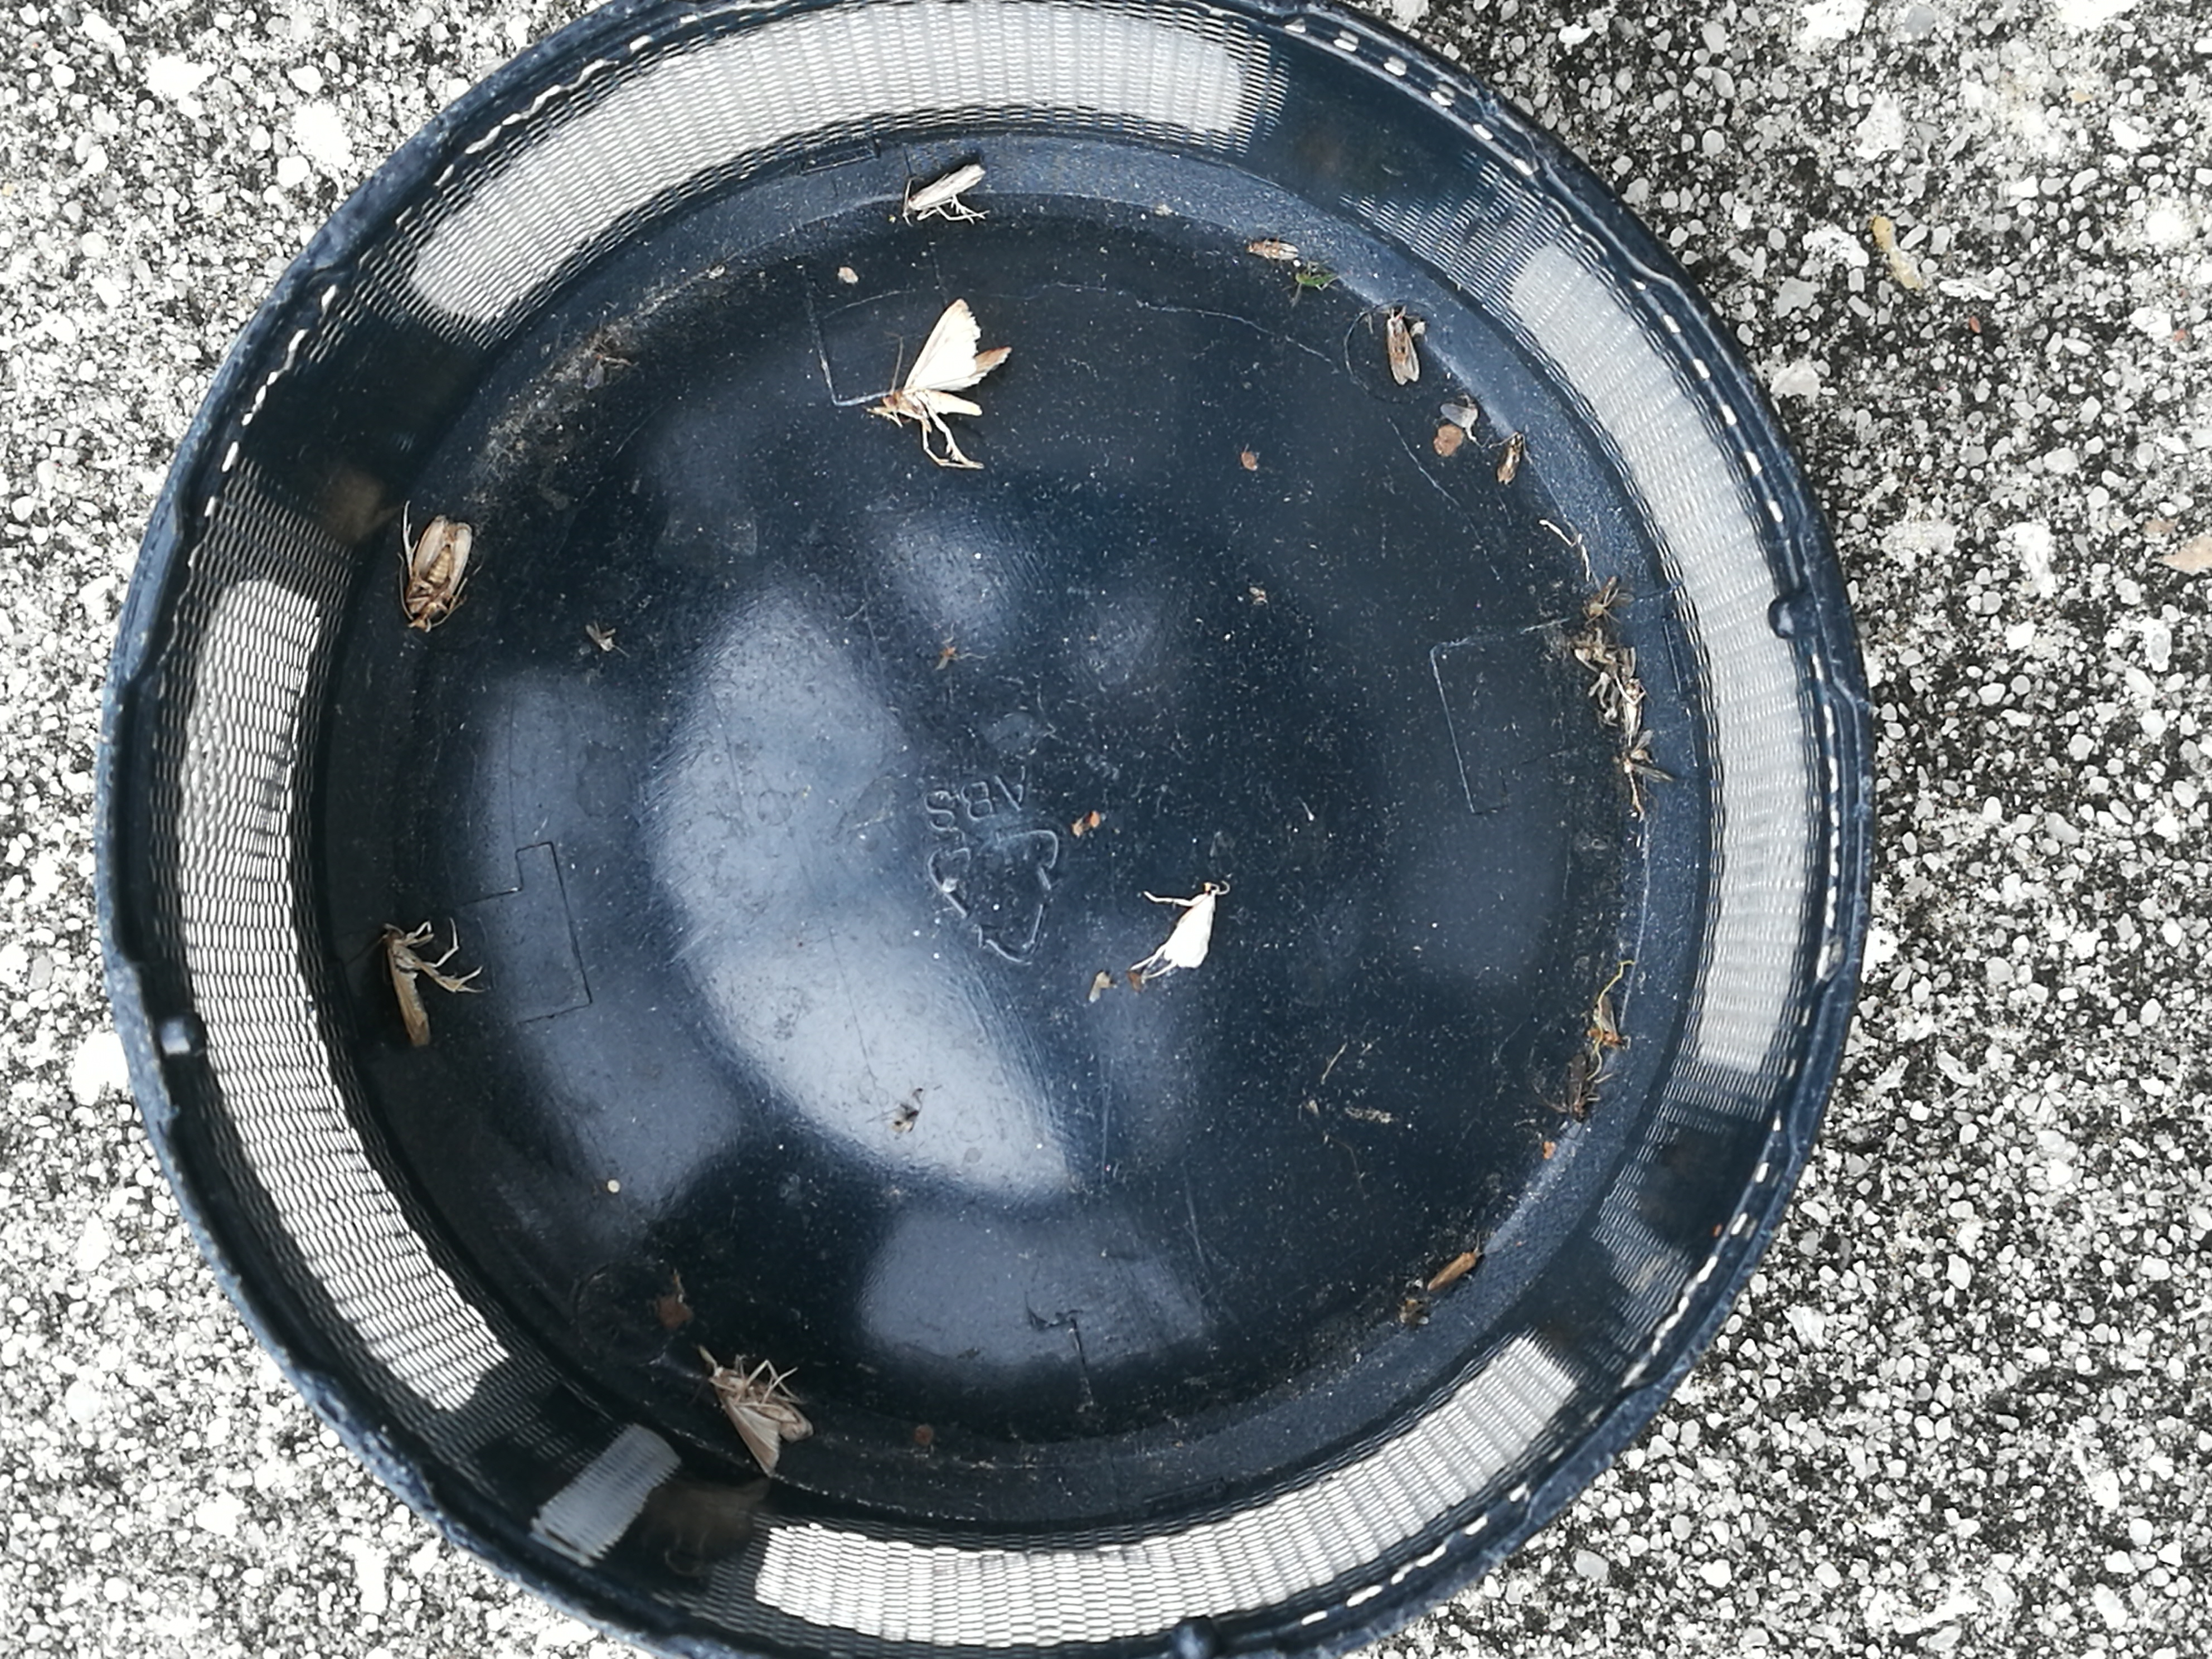mosquito: (383, 924, 481, 1046), (906, 164, 982, 211), (1388, 314, 1423, 383), (1435, 1246, 1482, 1286)
moth: (700, 1345, 810, 1474), (880, 298, 984, 418), (408, 514, 469, 629), (1165, 882, 1214, 967)
